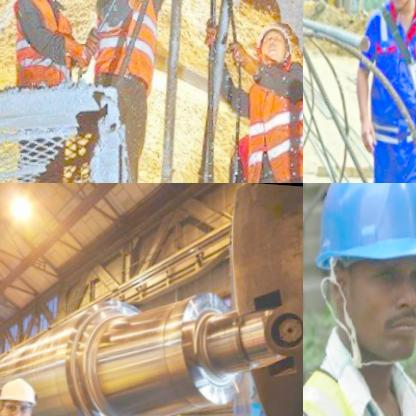helmet: (303, 183, 416, 385), (0, 371, 48, 416), (261, 18, 297, 62)
